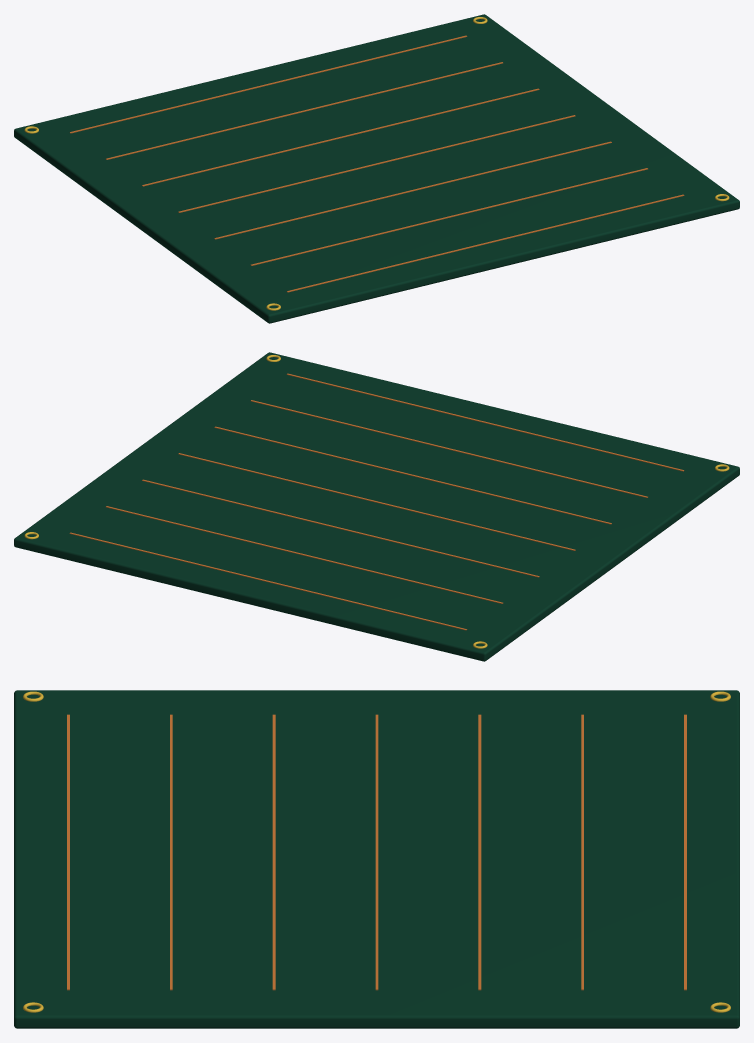
3 renders of one model, top to bottom at view 1: azimuth 30°, elevation 25°; view 2: azimuth 150°, elevation 25°; view 3: azimuth 270°, elevation 25°, orthographic. The views are drawn at different scales.
Visible parts, largest first — view 1: part_001; view 2: part_001; view 3: part_001.
Boxes of the visible parts, x1,y1,x2,y2 form: part_001: (14,14,739,323); part_001: (14,352,739,661); part_001: (14,690,739,1028).
Size of the model in its own units: 3.2 by 0.07 by 3.
